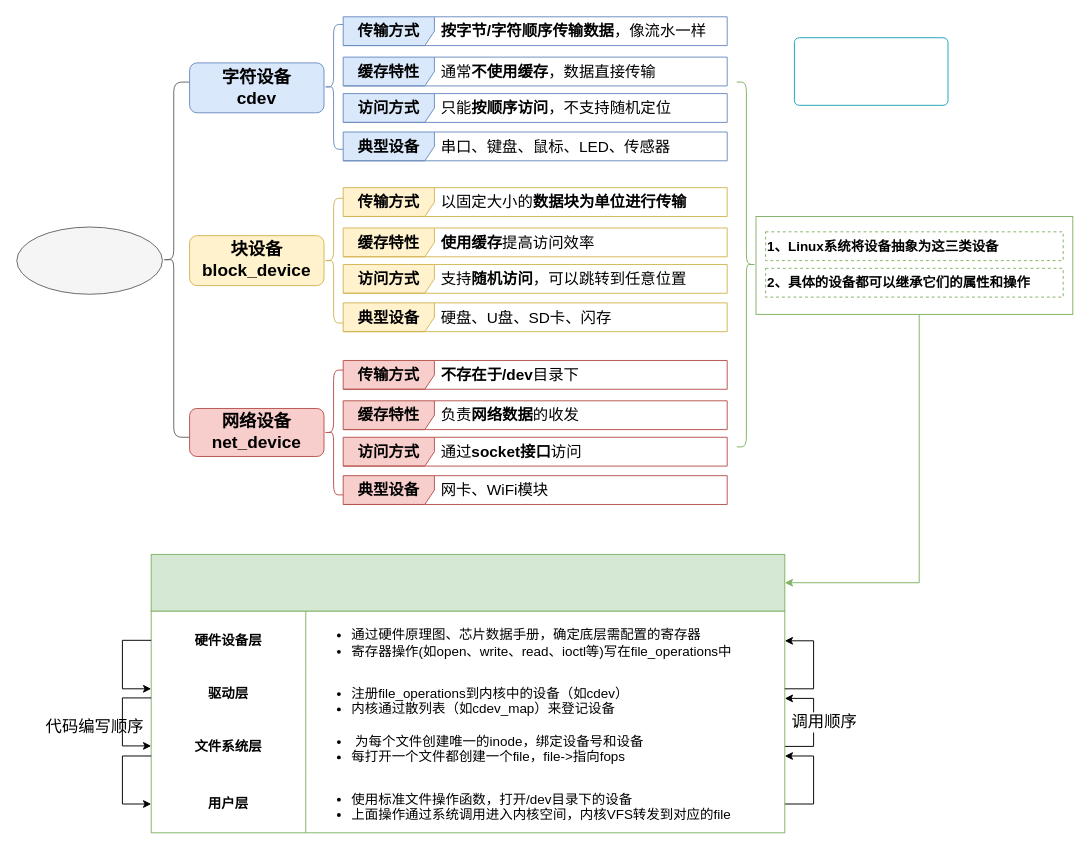
Image size: 1090x850. Some labels were removed from this diagram. The centre of each missing label's shape, as x and y in pixels:
"Linux设备分类" belongs at point 89,260.
"字符设备抽象设计 虽然C语言没有面向对象的语法，但Linux内核通过结构体的巧妙设计，实现了面向对象的编程思想" belongs at point 467,582.
"🌻Make By Dakkk" belongs at point 870,71.
